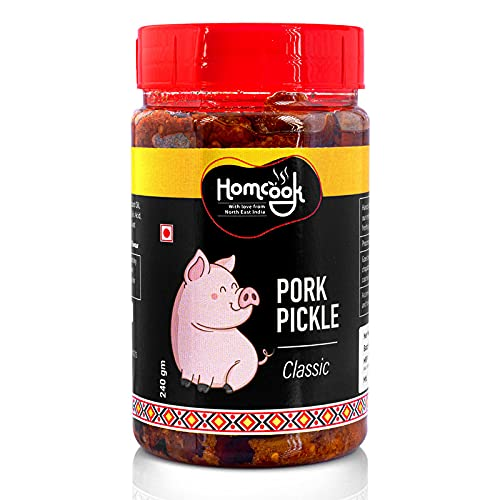non_veg: (157, 220, 182, 262)
